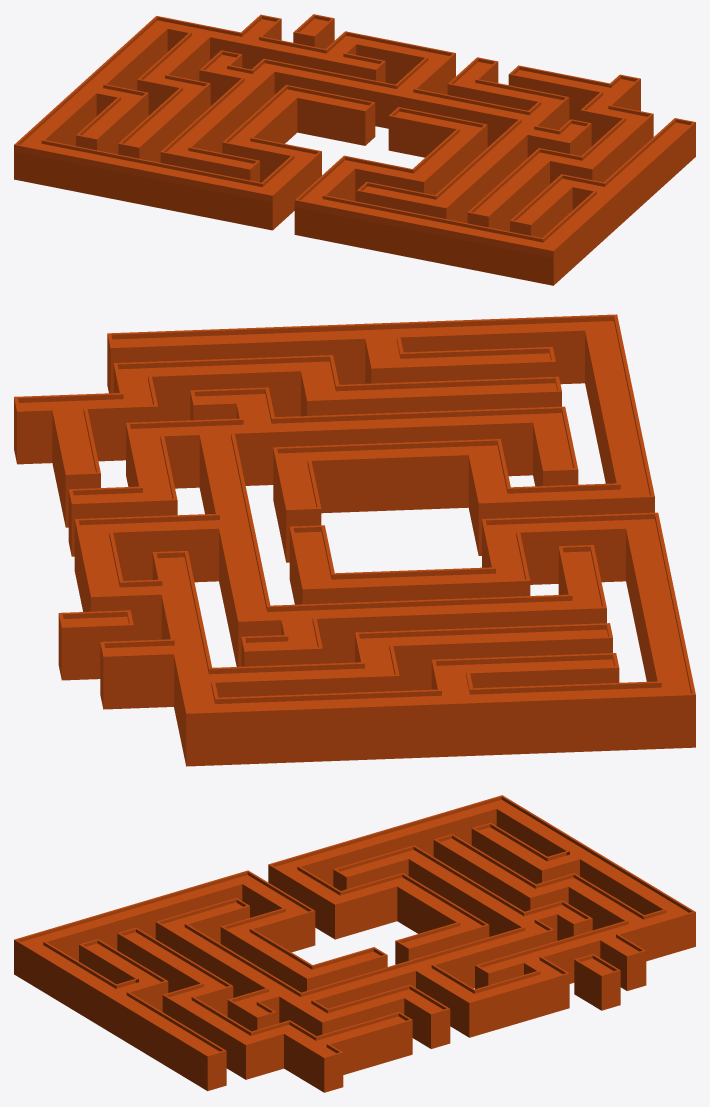
Rendered from Laberinto.fbx.
3 views of the same model, one above another, from view 1: azimuth 30°, elevation 25°; view 2: azimuth 150°, elevation 25°; view 3: azimuth 270°, elevation 25° (orthographic). The views are drawn at different scales.
Visible parts, largest first — view 1: Cube.002; view 2: Cube.002; view 3: Cube.002.
Boxes of the visible parts, left/top/right/bottom form: Cube.002: left=14, top=14, right=695, bottom=285; Cube.002: left=14, top=314, right=695, bottom=766; Cube.002: left=14, top=795, right=695, bottom=1092.
Bounding box in the file's own units: 3975 × 245 × 4356.
